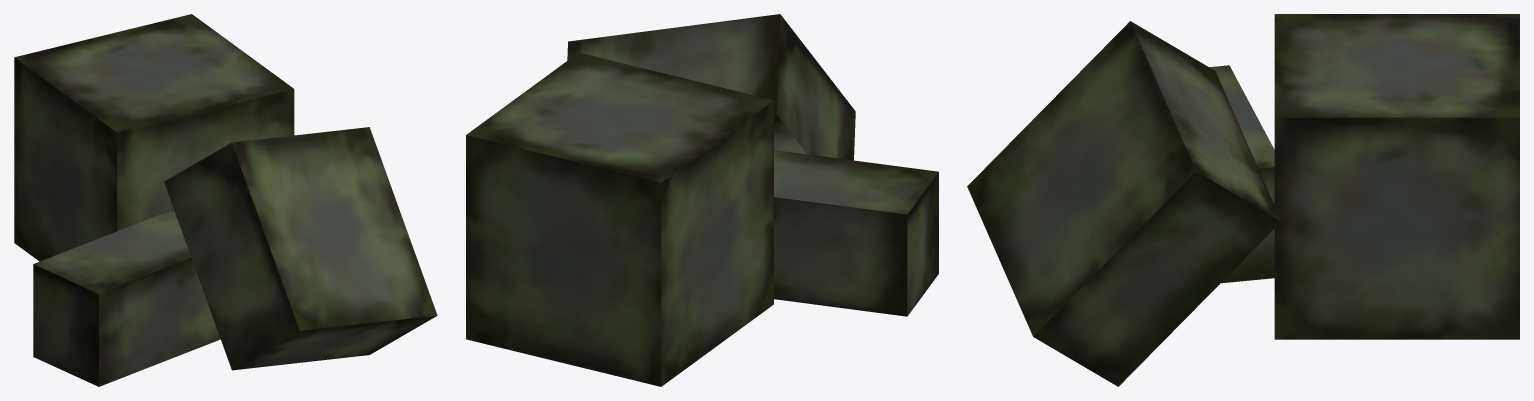
File: rubble-02.fbx
3 views of the same model, side by side, from view 1: azimuth 30°, elevation 25°; view 2: azimuth 150°, elevation 25°; view 3: azimuth 270°, elevation 25° (orthographic). The views are drawn at different scales.
Parts seen in each view (by area): view 1: rubble_2; view 2: rubble_2; view 3: rubble_2.
Boxes of the visible parts, left/top/right/bottom form: rubble_2: left=14, top=14, right=437, bottom=386; rubble_2: left=466, top=14, right=938, bottom=386; rubble_2: left=967, top=14, right=1519, bottom=386.
Size of the model in its own units: 182 by 130 by 226.
